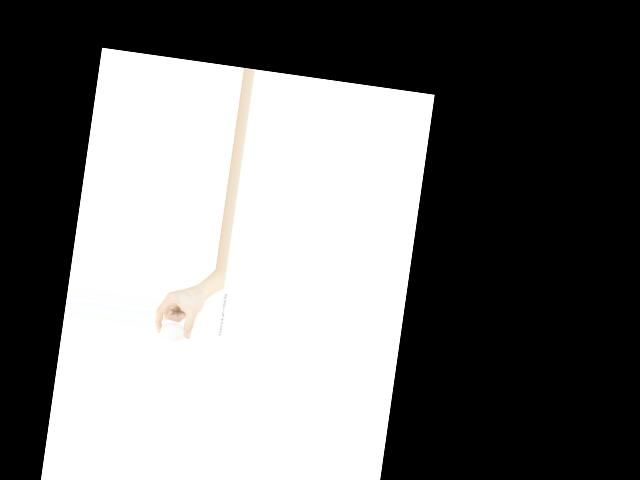egg: (159, 320, 186, 341)
